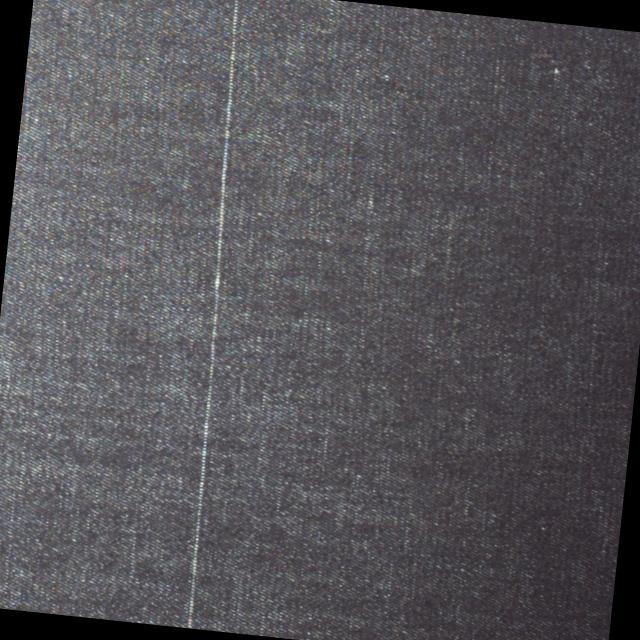Warp_Weft: (158, 0, 271, 629)
